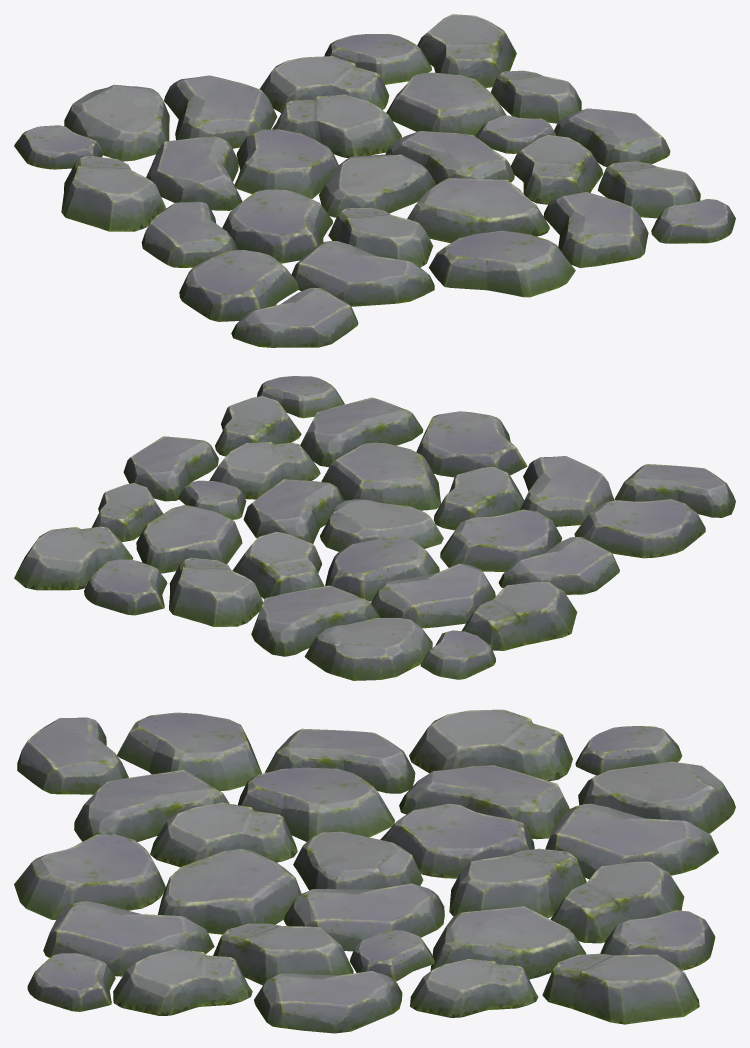
File: rockpath_round_wide.glb
3 views of the same model, one above another, from view 1: azimuth 30°, elevation 25°; view 2: azimuth 150°, elevation 25°; view 3: azimuth 270°, elevation 25° (orthographic). The views are drawn at different scales.
Visible parts, largest first — view 1: RockPath_Round_Wide; view 2: RockPath_Round_Wide; view 3: RockPath_Round_Wide.
Boxes of the visible parts, <box> form: RockPath_Round_Wide: <box>14,14,735,347</box>; RockPath_Round_Wide: <box>14,376,735,680</box>; RockPath_Round_Wide: <box>14,709,735,1033</box>.
Bounding box in the file's own units: 2.11 × 0.1128 × 2.13.
Materials: 1 (1 with a texture image).
